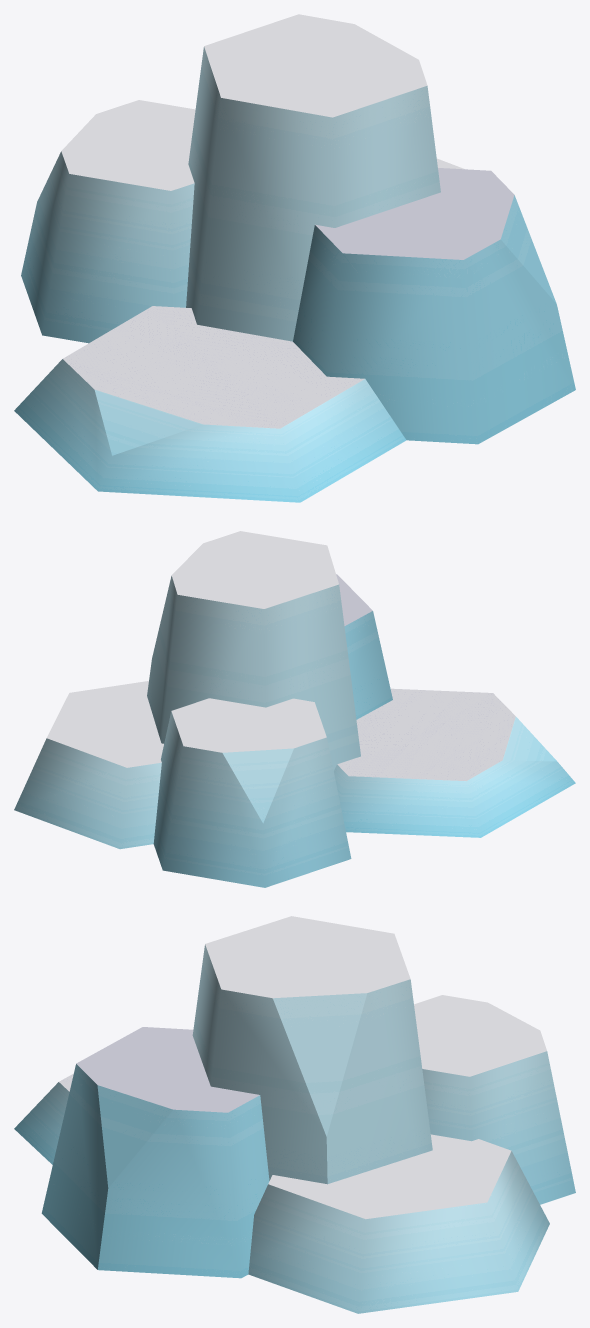
File: snow-detail-rocks-large.glb
3 views of the same model, one above another, from view 1: azimuth 30°, elevation 25°; view 2: azimuth 150°, elevation 25°; view 3: azimuth 270°, elevation 25° (orthographic). The views are drawn at different scales.
Parts seen in each view (by area): view 1: snow-detail-rocks-large; view 2: snow-detail-rocks-large; view 3: snow-detail-rocks-large.
Part boxes in pixels (x1,y1,x2,y2): snow-detail-rocks-large: (14,14,575,502); snow-detail-rocks-large: (14,531,575,887); snow-detail-rocks-large: (14,916,575,1313).
Bounding box in the file's own units: 2.68 × 1.24 × 2.58.
Materials: 1 (1 with a texture image).
